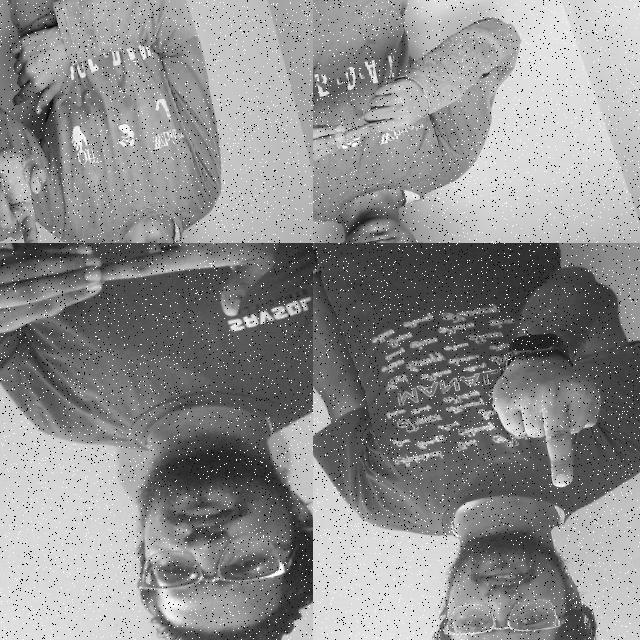Corna: (0, 102, 75, 243)
Five Fathers: (0, 243, 313, 383), (313, 61, 433, 181)
Middle Finger: (476, 322, 628, 507)
